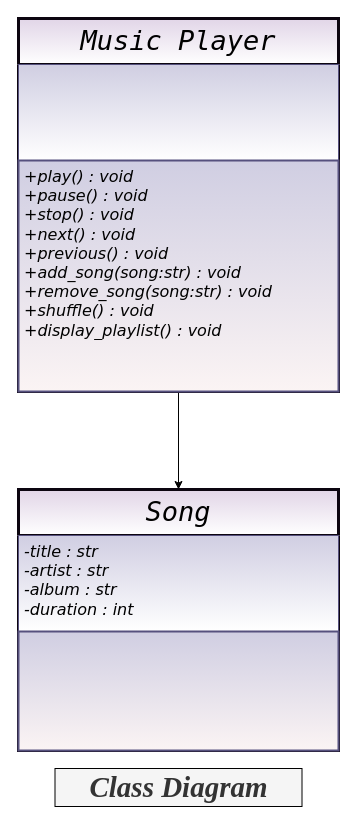
Some shapes in this 357 by 824 pixel diagram are drawn without their labels. The centre of each missing label's shape, as x and y in pixels:
"+get_title() : str +get_artist() : str +get_album() : str +get_duration() : int" belongs at (x=178, y=690).
"-playlist : list -current_song : int -is_playing : bool" belongs at (x=178, y=112).
